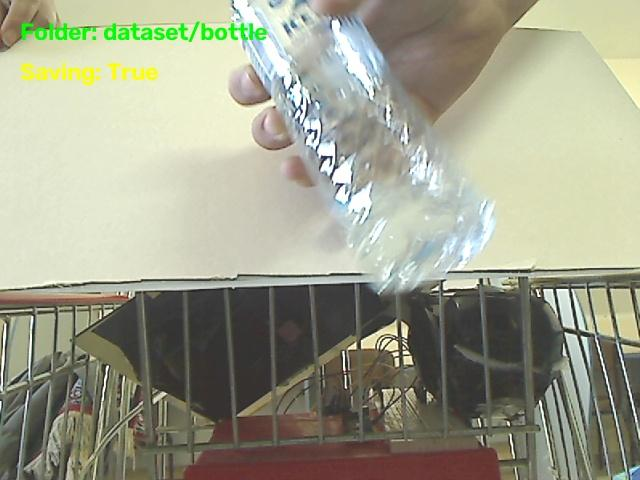Bottle: (232, 0, 493, 291)
